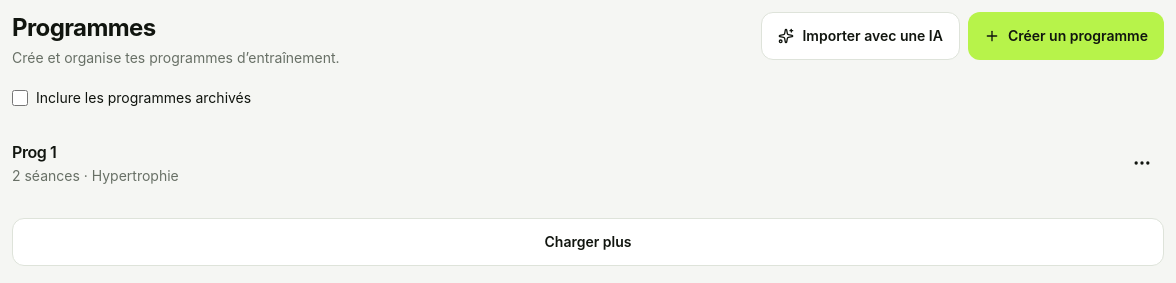
Scenario: ProgramsPage › paginates with Charger plus
The image size is (1176, 283).
Expected: the heading "Prog 1" is shown, [12,140,56,164]
Click the button "Charger plus": [588, 242] box [12,218,1164,266]
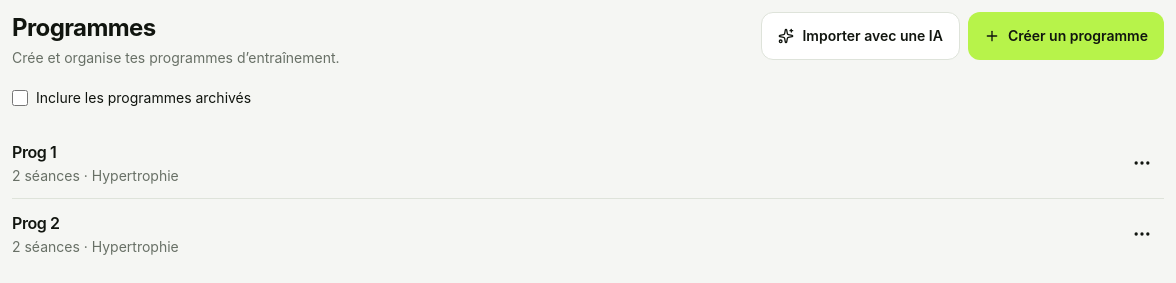
Now the heading "Prog 2" is shown, box [12,211,60,235]
